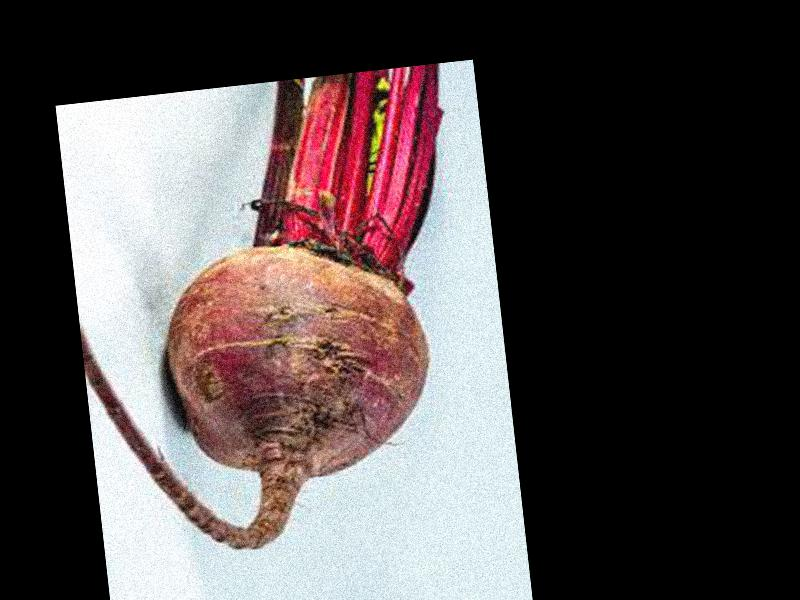Beet: (59, 62, 491, 564)
